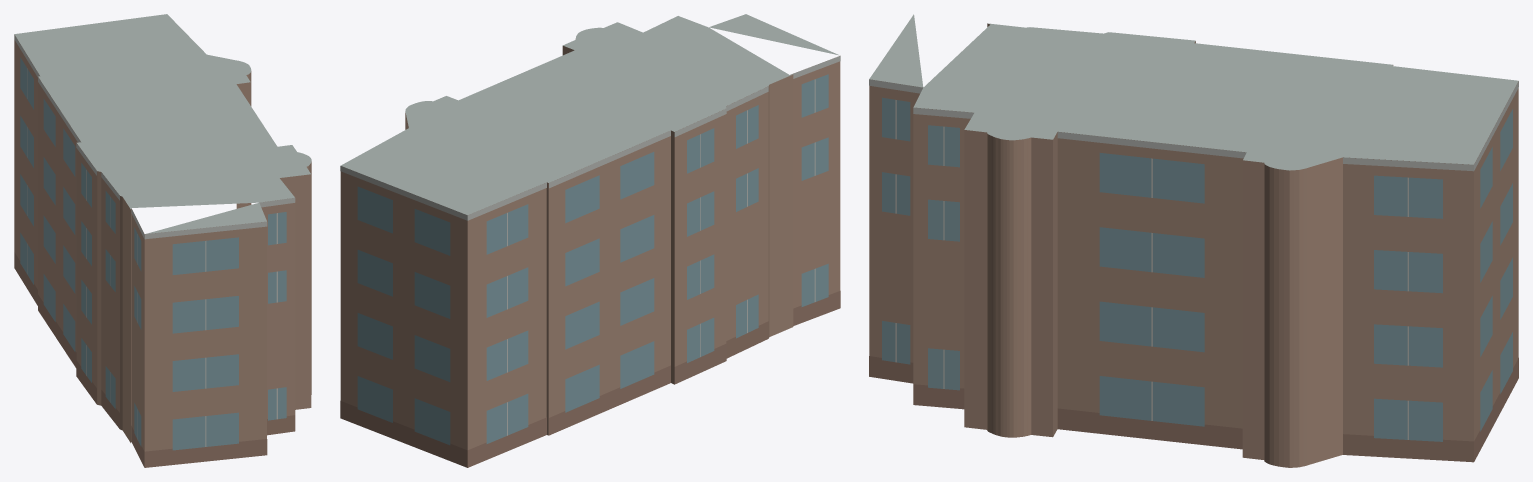
File: survey-upis-32652356.glb
The picture shows the model from 3 angles, left to right: view 1: azimuth 30°, elevation 25°; view 2: azimuth 150°, elevation 25°; view 3: azimuth 270°, elevation 25°; orthographic projection. The views are drawn at different scales.
Visible parts, largest first — view 1: survey-upis-32652356.tmp; view 2: survey-upis-32652356.tmp; view 3: survey-upis-32652356.tmp.
Boxes of the visible parts, <box> form: survey-upis-32652356.tmp: <box>14,14,311,467</box>; survey-upis-32652356.tmp: <box>340,14,840,467</box>; survey-upis-32652356.tmp: <box>869,14,1518,467</box>.
Size of the model in its own units: 12.58 by 11.15 by 22.08.
